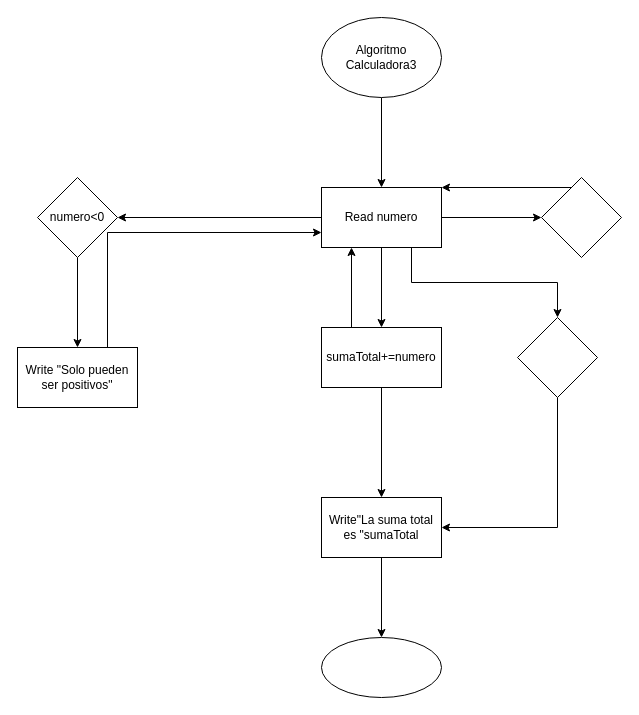
Image size: 639x715. Some labels were removed from this diagram. Each missing label, with the centre of its shape:
"Fin Algoritmo Calucladora3" goes at (381,667).
"numero='q'" goes at (557,357).
"numero>0" goes at (581,217).
